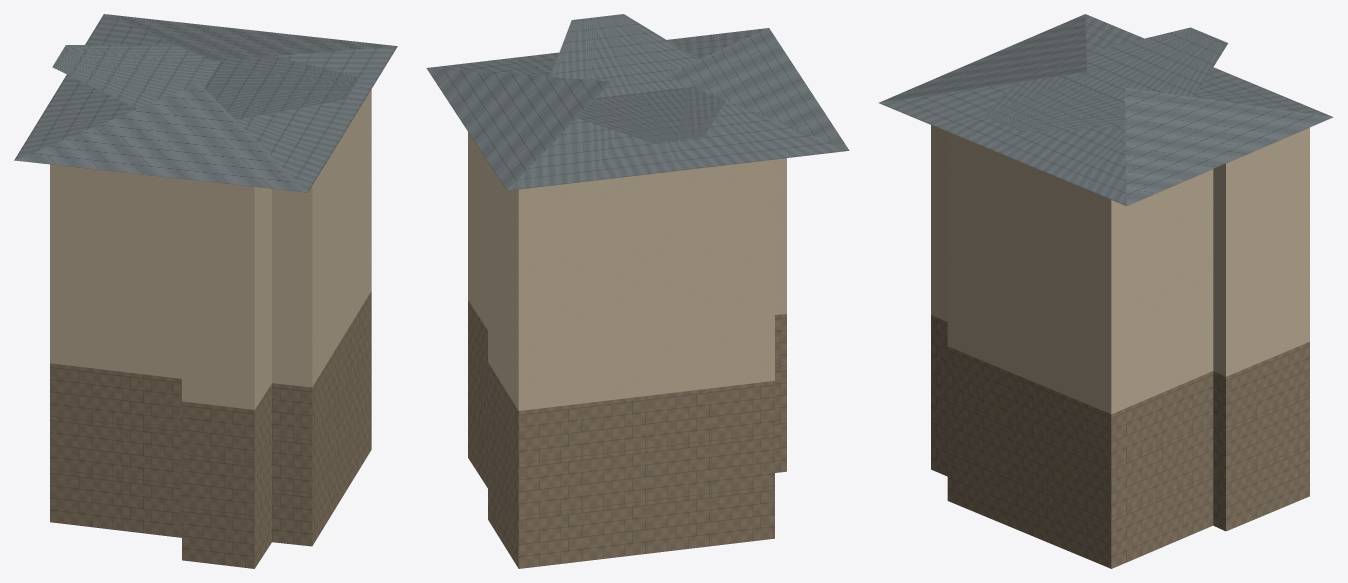
Rendered from bld_c18_28_392.gltf.
The picture shows the model from 3 angles, left to right: view 1: azimuth 30°, elevation 25°; view 2: azimuth 150°, elevation 25°; view 3: azimuth 270°, elevation 25°; orthographic projection. The views are drawn at different scales.
Visible parts, largest first — view 1: bld_c18_28_392; view 2: bld_c18_28_392; view 3: bld_c18_28_392.
Part boxes in pixels (<box>): bld_c18_28_392: <box>14,14,397,568</box>; bld_c18_28_392: <box>426,14,849,568</box>; bld_c18_28_392: <box>879,14,1333,568</box>.
Size of the model in its own units: 13.6 by 13.5 by 13.61.
3 materials, 3 textured.
